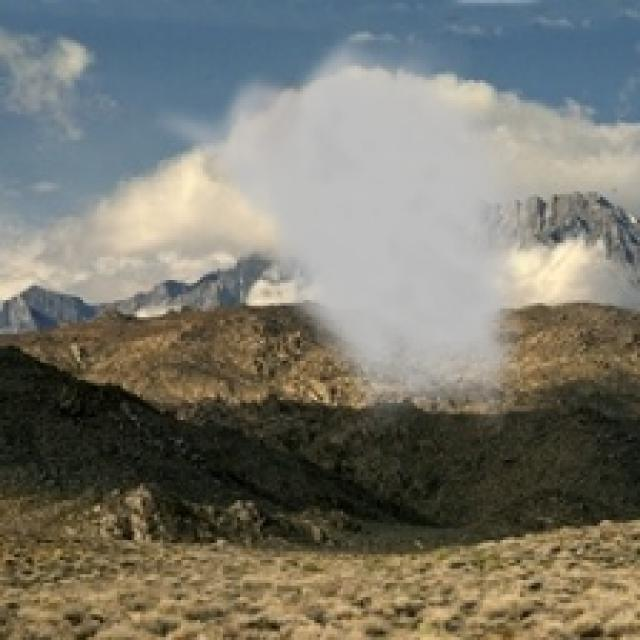smoke: (146, 26, 543, 440)
